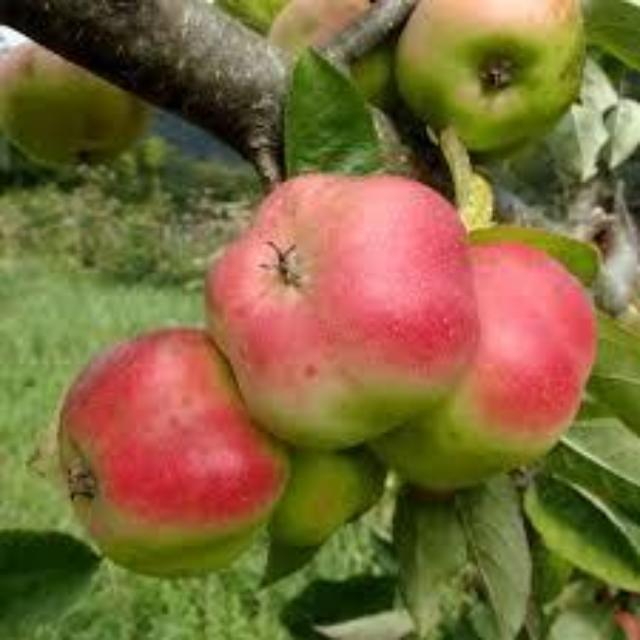apple: (208, 174, 478, 444), (60, 327, 282, 575), (373, 242, 594, 489), (395, 0, 583, 154)
